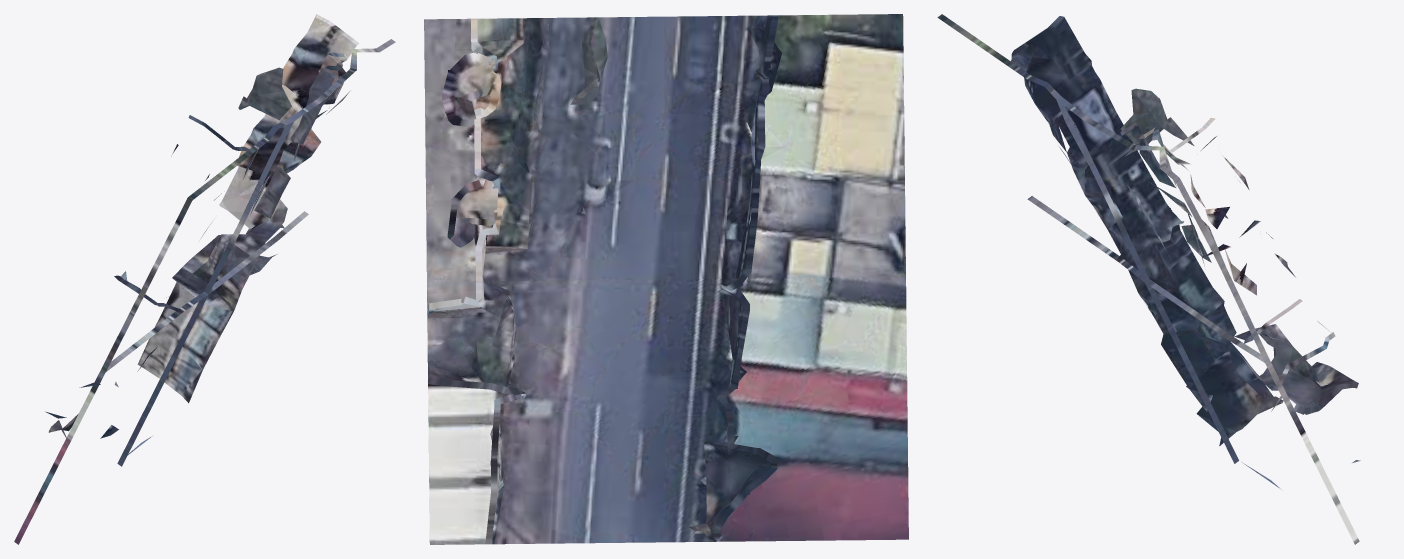
3 renders of one model, left to right at view 1: azimuth 30°, elevation 25°; view 2: azimuth 150°, elevation 25°; view 3: azimuth 270°, elevation 25°, orthographic. The views are drawn at different scales.
Size of the model in its own units: 38.19 by 37.16 by 34.46.
1 material, 1 textured.
